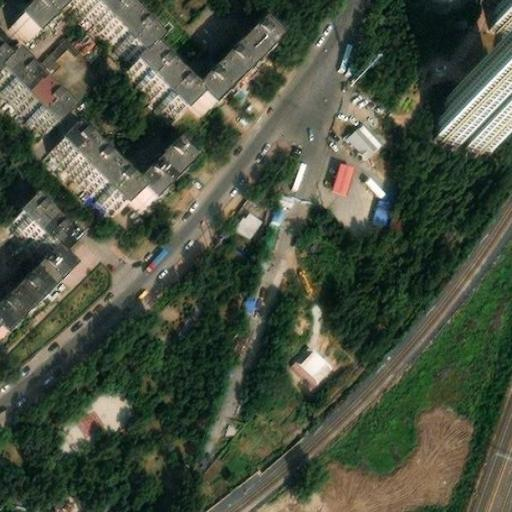building: (190, 17, 278, 106), (50, 119, 138, 207), (0, 48, 68, 125), (434, 82, 505, 149), (129, 42, 195, 108), (130, 137, 192, 199), (12, 198, 73, 258), (285, 342, 335, 391), (47, 40, 94, 89), (340, 117, 383, 161), (228, 196, 269, 239), (10, 0, 60, 30), (326, 158, 356, 197), (367, 193, 394, 226), (488, 0, 512, 34), (48, 494, 80, 512), (264, 203, 286, 229), (361, 174, 383, 196), (239, 291, 259, 314)
